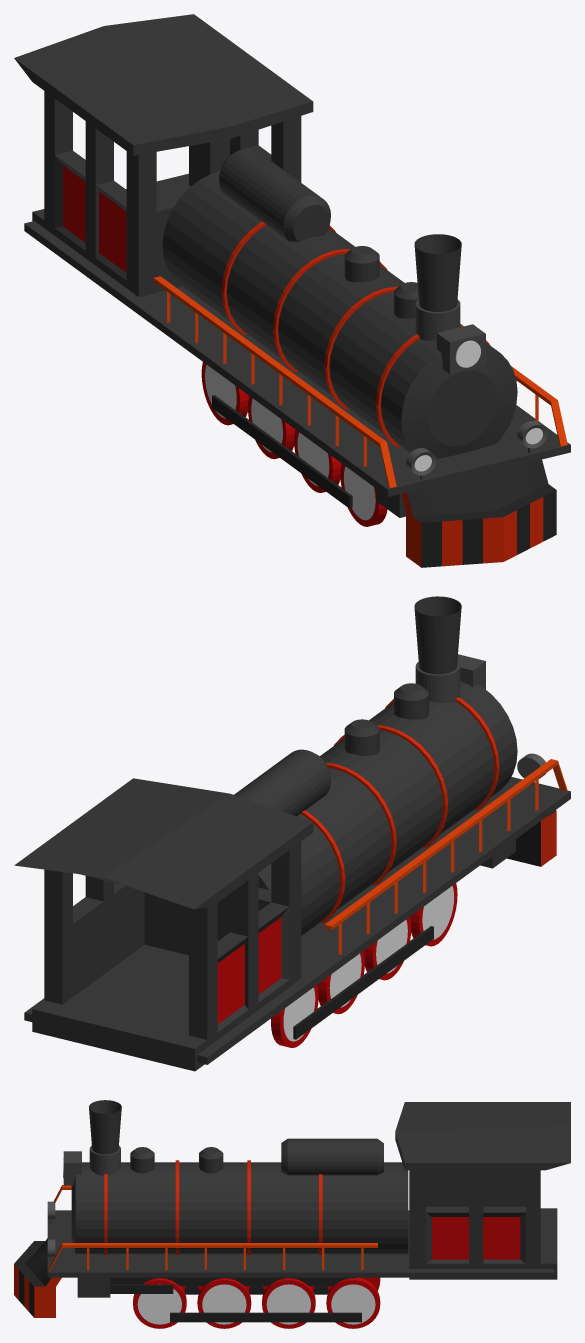
Rendered from train.fbx.
The picture shows the model from 3 angles, top to bottom: view 1: azimuth 30°, elevation 25°; view 2: azimuth 150°, elevation 25°; view 3: azimuth 270°, elevation 25°; orthographic projection. The views are drawn at different scales.
Visible parts, largest first — view 1: Cylinder, Cube.010, Cube.002, Cube, Cube.009, Cylinder.008, Cylinder.002, Cube.003, Cylinder.003, Cylinder.007, Cube.004, Cylinder.005 (+4 smaller); view 2: Cube.002, Cylinder, Cube.010, Cube, Cylinder.002, Cylinder.008, Cylinder.003, Cylinder.007, Cube.003, Cylinder.005, Cube.004, Cube.009 (+3 smaller); view 3: Cylinder, Cube.002, Cube.010, Cube, Cylinder.002, Cylinder.008, Cube.009, Cube.004, Cube.003, Cylinder.007, Cube.008, Cylinder.003 (+7 smaller).
Part boxes in pixels (x1=…): Cylinder: x1=162, y1=171, x2=517, y2=458; Cube.010: x1=14, y1=14, x2=313, y2=155; Cube.002: x1=32, y1=91, x2=301, y2=296; Cube: x1=24, y1=221, x2=570, y2=496; Cube.009: x1=401, y1=459, x2=556, y2=567; Cylinder.008: x1=219, y1=148, x2=330, y2=241; Cylinder.002: x1=201, y1=362, x2=387, y2=526; Cube.003: x1=153, y1=276, x2=567, y2=488; Cylinder.003: x1=221, y1=221, x2=490, y2=447; Cylinder.007: x1=414, y1=234, x2=461, y2=311; Cube.004: x1=212, y1=395, x2=352, y2=508; Cylinder.005: x1=344, y1=246, x2=418, y2=318; Cube.002: x1=32, y1=842, x2=301, y2=1071; Cylinder: x1=258, y1=681, x2=517, y2=935; Cube.010: x1=14, y1=778, x2=313, y2=909; Cube: x1=24, y1=777, x2=570, y2=1064; Cylinder.002: x1=271, y1=883, x2=457, y2=1047; Cylinder.008: x1=234, y1=749, x2=330, y2=816; Cylinder.003: x1=300, y1=697, x2=499, y2=923; Cylinder.007: x1=414, y1=596, x2=461, y2=674; Cube.003: x1=324, y1=759, x2=567, y2=930; Cylinder.005: x1=344, y1=683, x2=428, y2=755; Cube.004: x1=293, y1=926, x2=433, y2=1039; Cube.009: x1=507, y1=810, x2=556, y2=866; Cylinder: x1=71, y1=1162, x2=408, y2=1253; Cube.002: x1=409, y1=1170, x2=557, y2=1279; Cube.010: x1=395, y1=1102, x2=570, y2=1170; Cube: x1=47, y1=1210, x2=554, y2=1277; Cylinder.002: x1=133, y1=1277, x2=380, y2=1328; Cylinder.008: x1=281, y1=1138, x2=383, y2=1175; Cube.009: x1=14, y1=1238, x2=61, y2=1317; Cube.004: x1=170, y1=1286, x2=361, y2=1322; Cube.003: x1=48, y1=1185, x2=377, y2=1271; Cylinder.007: x1=89, y1=1100, x2=121, y2=1154; Cube.008: x1=110, y1=1277, x2=356, y2=1285; Cylinder.003: x1=104, y1=1160, x2=322, y2=1255.
Bounding box in the file's own units: 568 × 886 × 2146.
